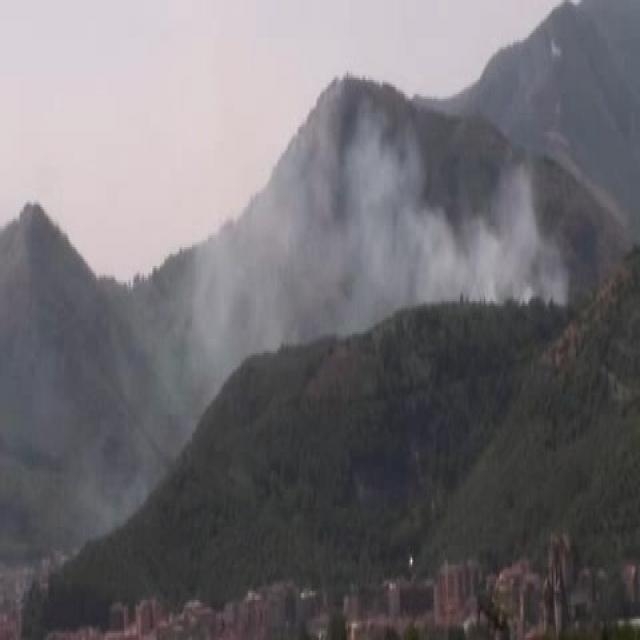smoke: (326, 93, 526, 307)
